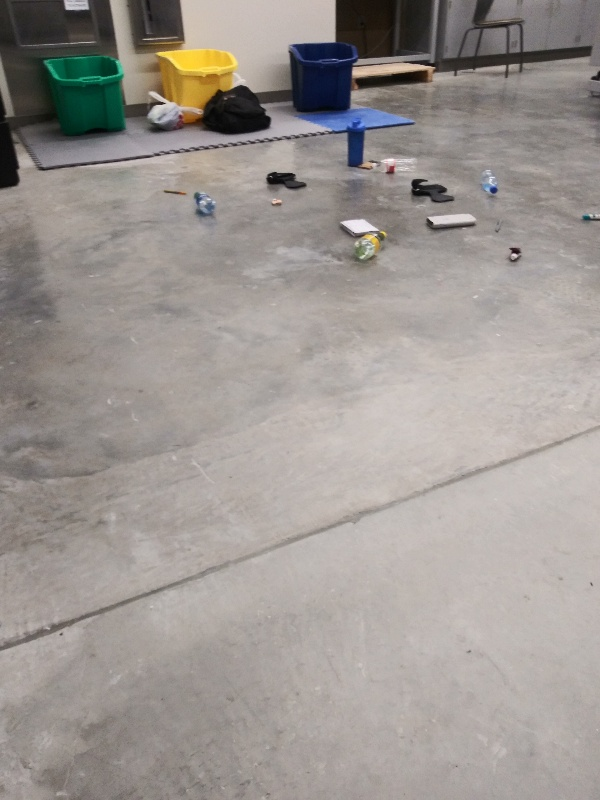bottle: (353, 229, 389, 266), (369, 157, 419, 175), (192, 187, 219, 218), (476, 167, 499, 195)
